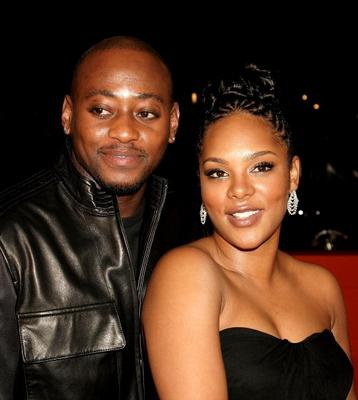bad: (67, 80, 175, 187), (187, 140, 294, 247)
